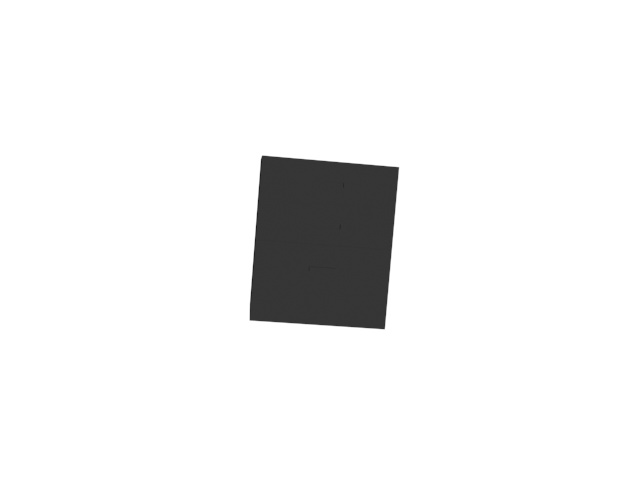file_cabinet: (249, 153, 400, 336)
